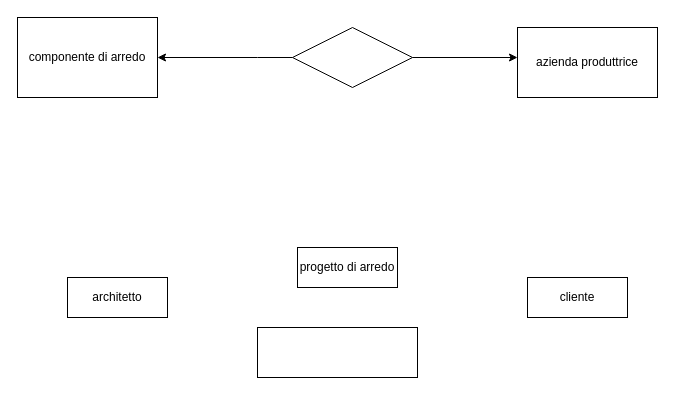
The diagram is 675 pixels wide and 395 high, and some of its shapes have lost their labels. Each missing label, with the centre of its shape:
"progetto di ambiente" belongs at (x=337, y=352).
"è prodotta" belongs at (x=352, y=57).
